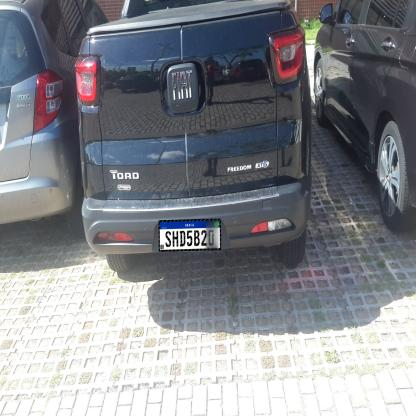PlacaM: (159, 218, 221, 252)
